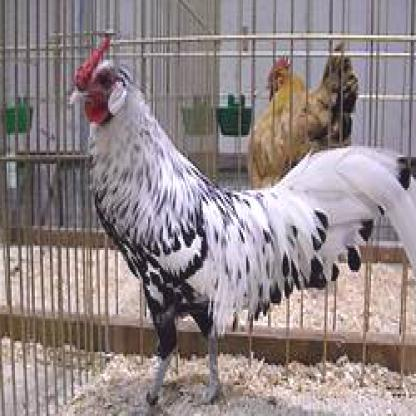chicken: (65, 35, 415, 414), (244, 42, 358, 197)
